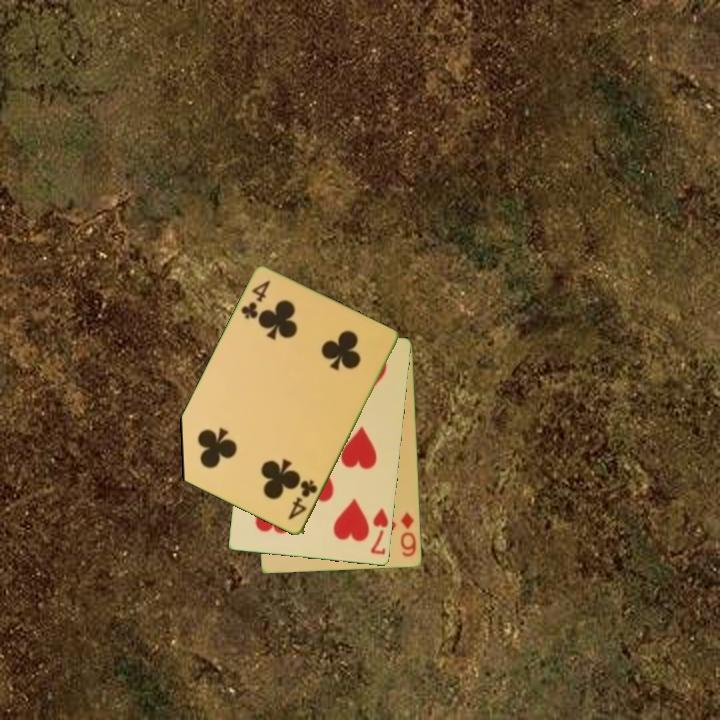4c: (285, 477, 321, 523), (237, 277, 273, 322)
6d: (397, 509, 419, 560)
7h: (367, 505, 392, 558)
